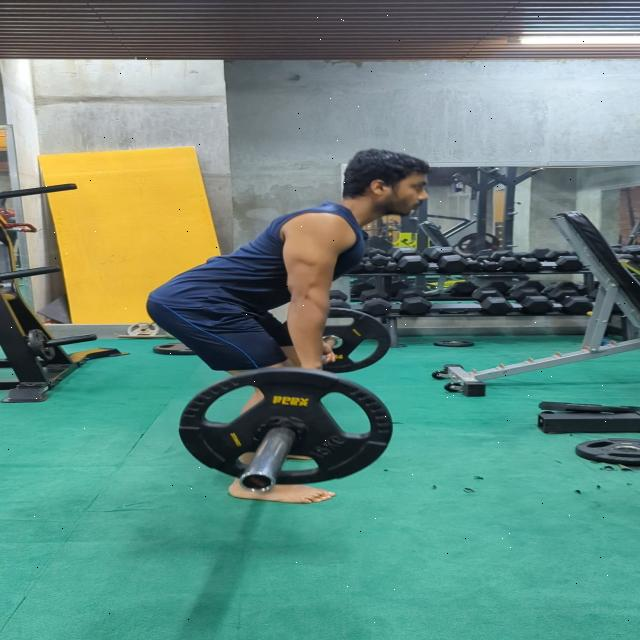Normal_Deadlifts: (145, 148, 441, 506)
